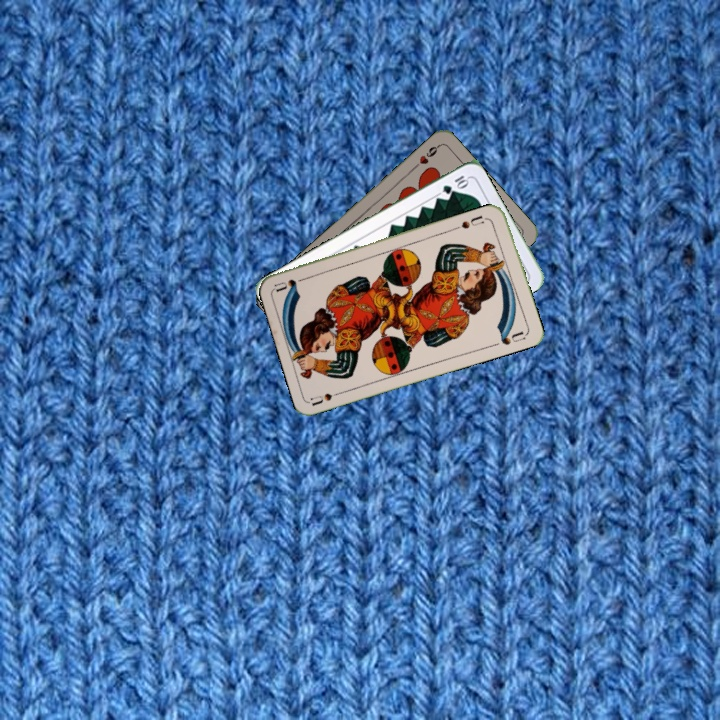G10: (438, 171, 471, 197)
H9: (409, 141, 442, 172)
SU: (308, 386, 348, 408), (452, 211, 486, 232)
